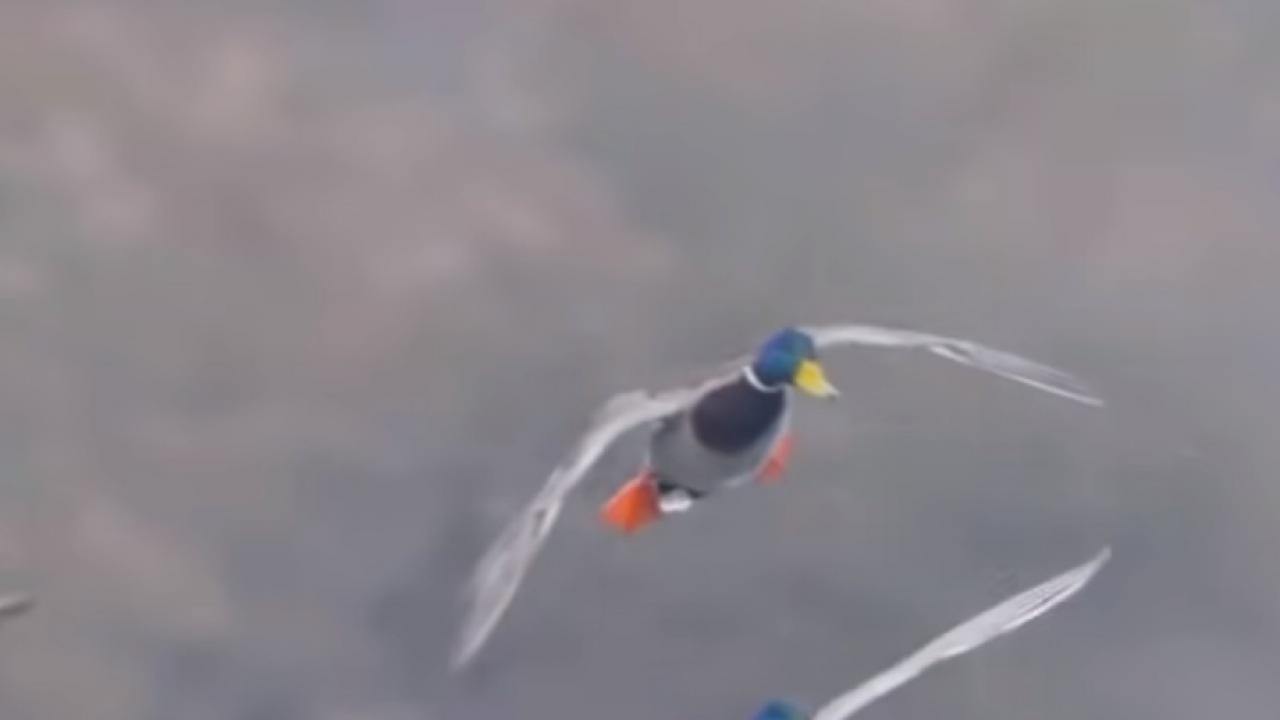Bird: (434, 311, 1110, 678)
